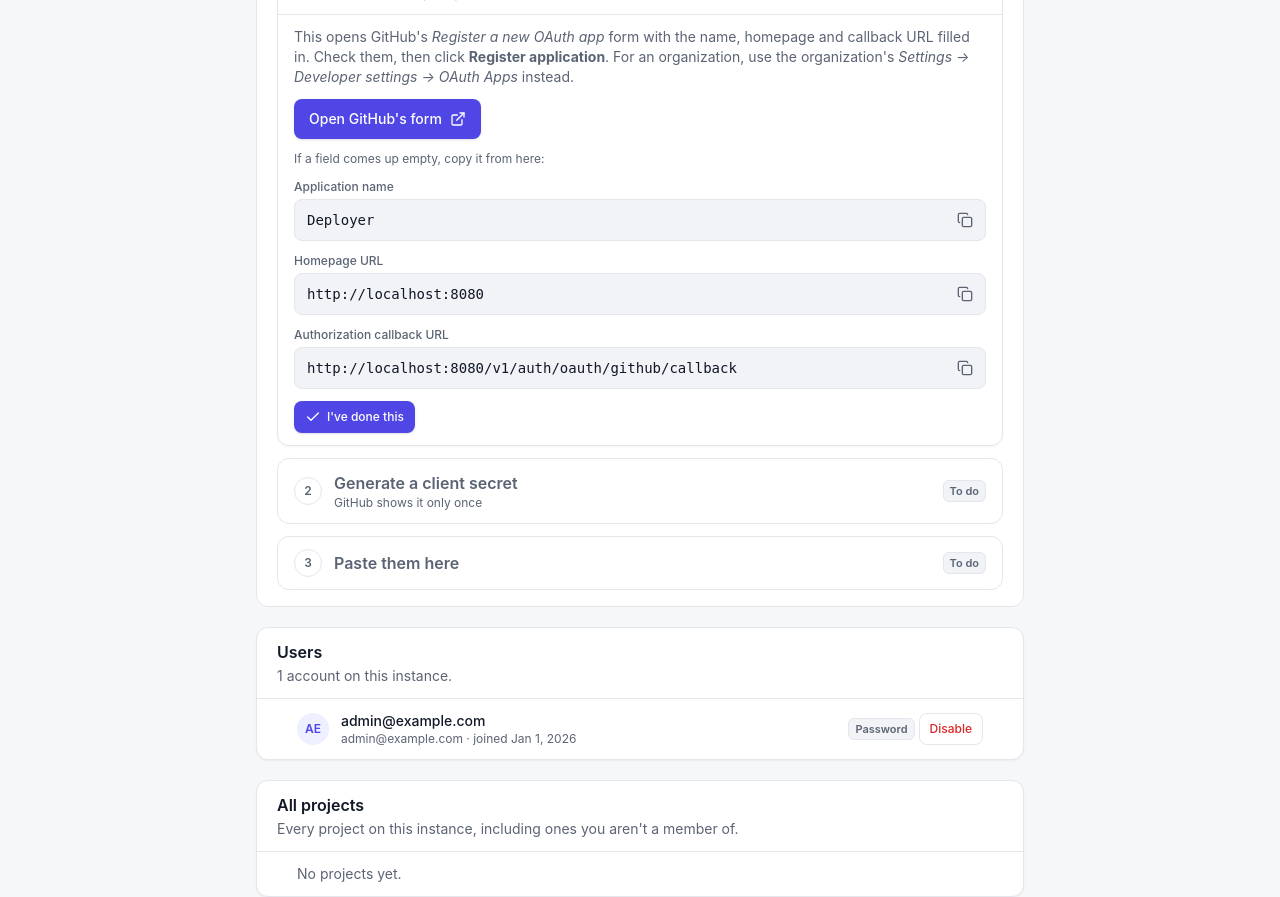
Test: disabling an account (V-06) › lists the API keys to rotate per project and says their admins revoke them
(page scrolled)
Click the button "Disable": (951, 729) [918,713,983,745]
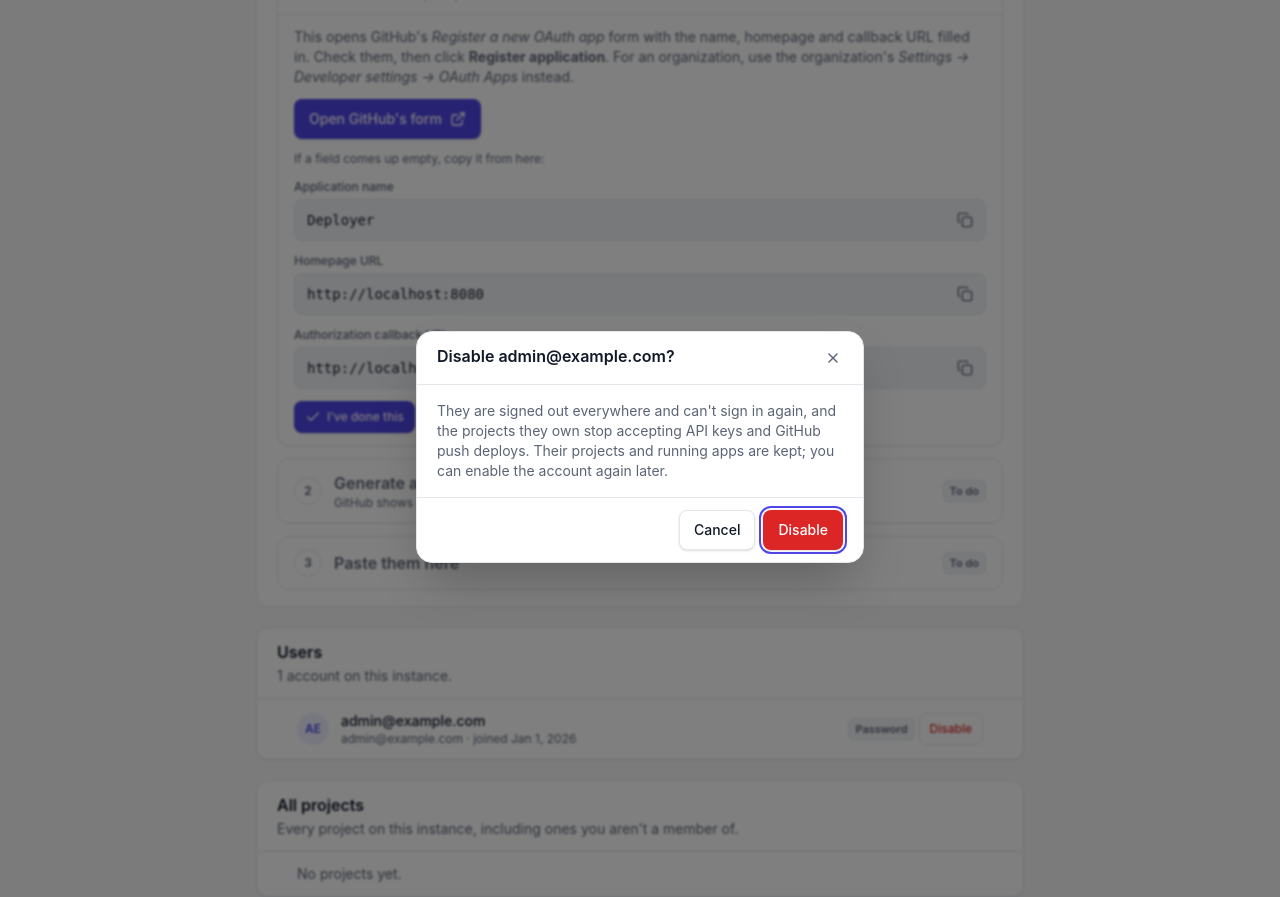
Click the button "Disable": (803, 530) [764,510,843,550]
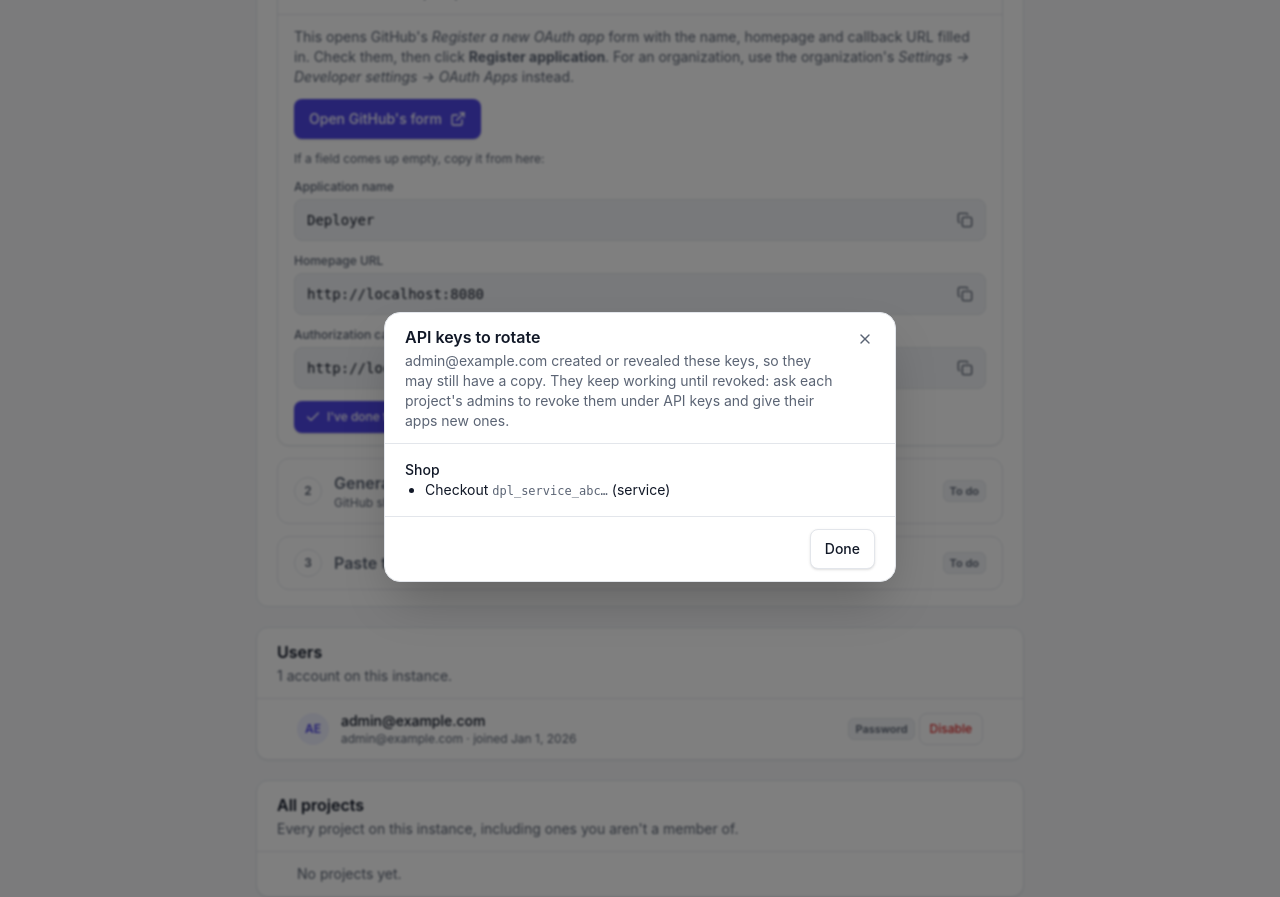
Check: the text "API keys to rotate" is shown, box [405,327,540,347]
Check: the text "Shop" is shown, box [405,461,440,478]
Check: the text "Checkout" is shown, box [425,481,488,498]
